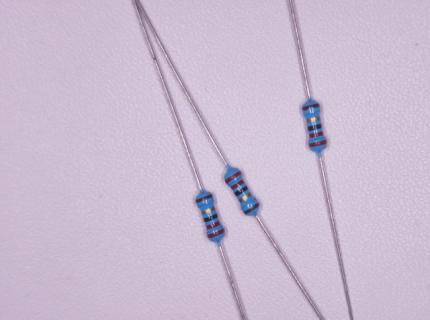Red band: (224, 170, 242, 184), (207, 228, 225, 239), (309, 139, 327, 148), (231, 179, 245, 190), (206, 220, 221, 230), (309, 131, 324, 139)
